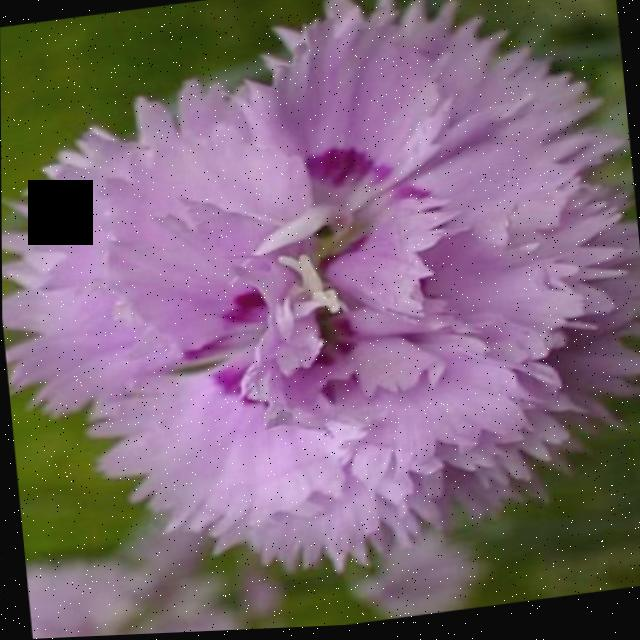carnation: (0, 0, 640, 613)
